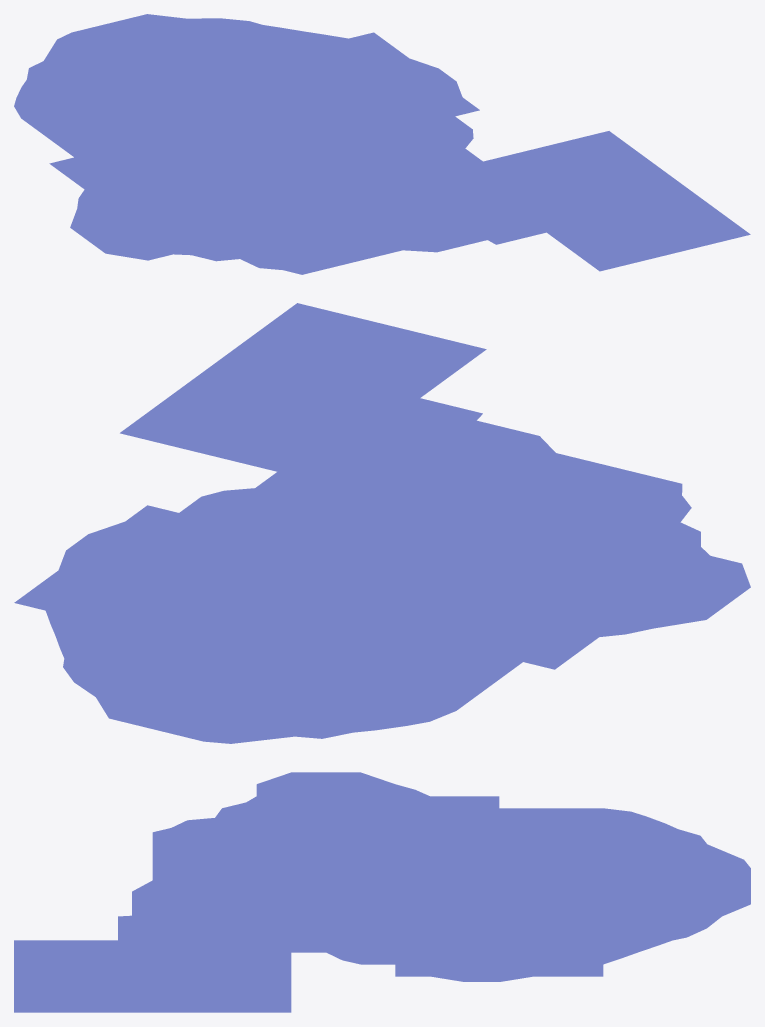
Rendered from terrain_lakeWater.fbx.
3 renders of one model, top to bottom at view 1: azimuth 30°, elevation 25°; view 2: azimuth 150°, elevation 25°; view 3: azimuth 270°, elevation 25°, orthographic. The views are drawn at different scales.
Visible parts, largest first — view 1: lakeWater; view 2: lakeWater; view 3: lakeWater.
Part boxes in pixels (left/top/right/bottom): lakeWater: left=14, top=14, right=750, bottom=274; lakeWater: left=14, top=303, right=750, bottom=743; lakeWater: left=14, top=772, right=750, bottom=1012.
Bounding box in the file's own units: 67705 × 1.83e-11 × 87781.
